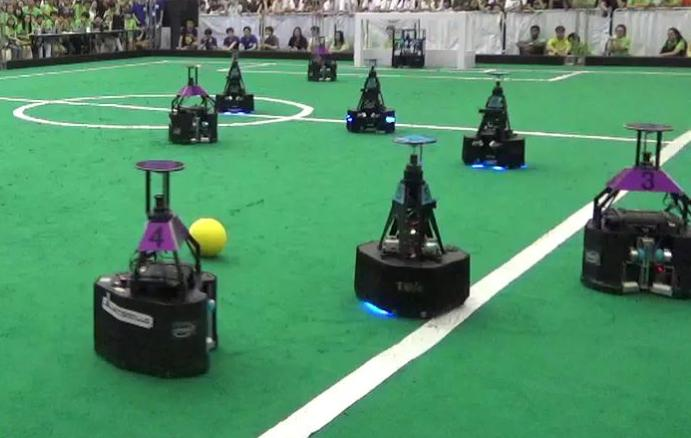robot: (86, 155, 226, 382), (351, 131, 477, 319), (576, 119, 691, 304), (458, 70, 528, 174), (163, 64, 220, 145), (341, 62, 399, 135), (214, 48, 259, 119)
